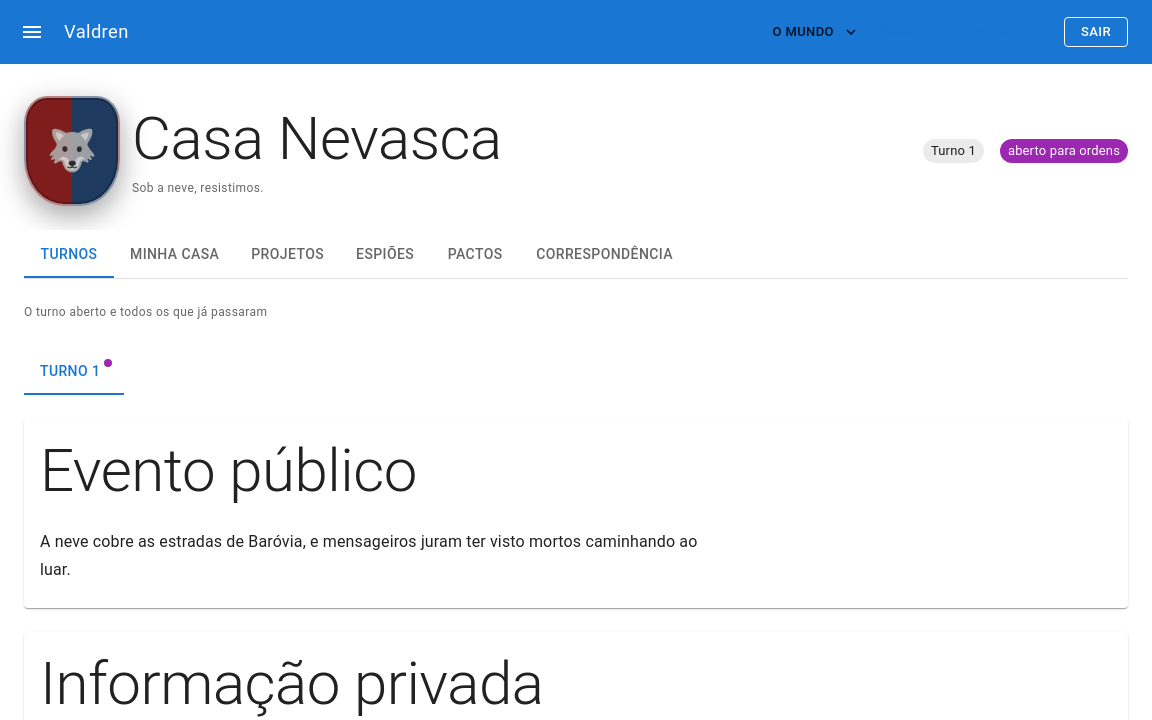
Test: GamePage › sem ativos, explica de onde eles vêm em vez de mostrar seção vazia
The width and height of the screenshot is (1152, 720).
Click the tab "Minha Casa" at (175, 254), box [114, 230, 235, 278]
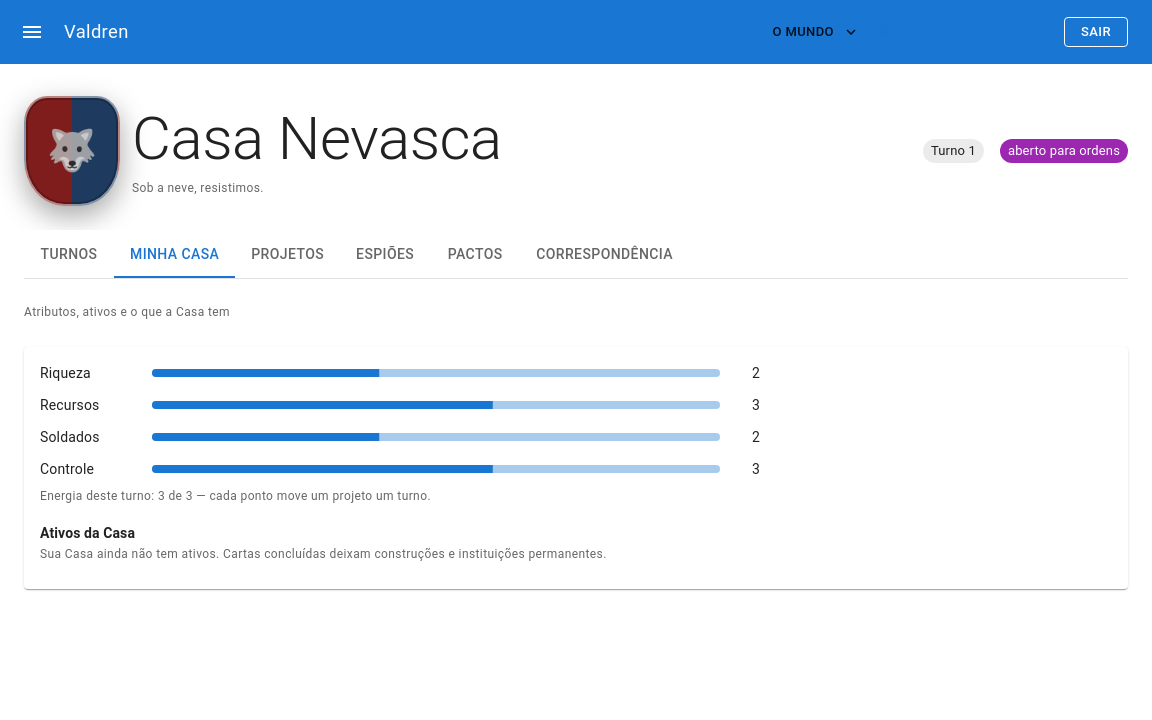
Expected: the text "Sua Casa ainda não tem ativos" is shown, [40, 547, 607, 561]
